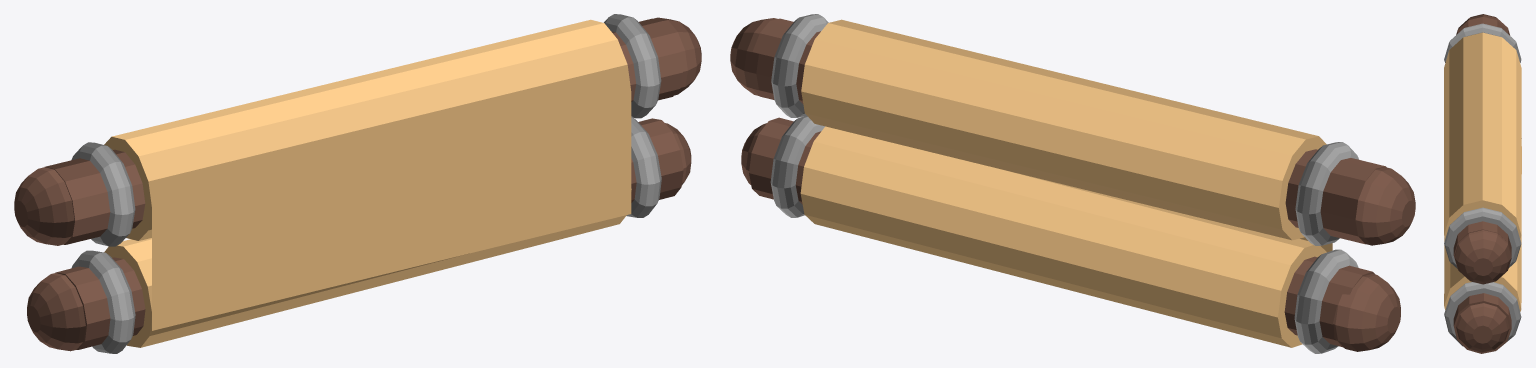
Rendered from scroll.glb.
3 renders of one model, left to right at view 1: azimuth 30°, elevation 25°; view 2: azimuth 150°, elevation 25°; view 3: azimuth 270°, elevation 25°, orthographic. The views are drawn at different scales.
Visible parts, largest first — view 1: Node; view 2: Node; view 3: Node.
Boxes of the visible parts, <box> form: Node: <box>14,14,701,353</box>; Node: <box>730,14,1415,353</box>; Node: <box>1444,14,1521,353</box>.
Bounding box in the file's own units: 0.58 × 0.1683 × 0.0804.
